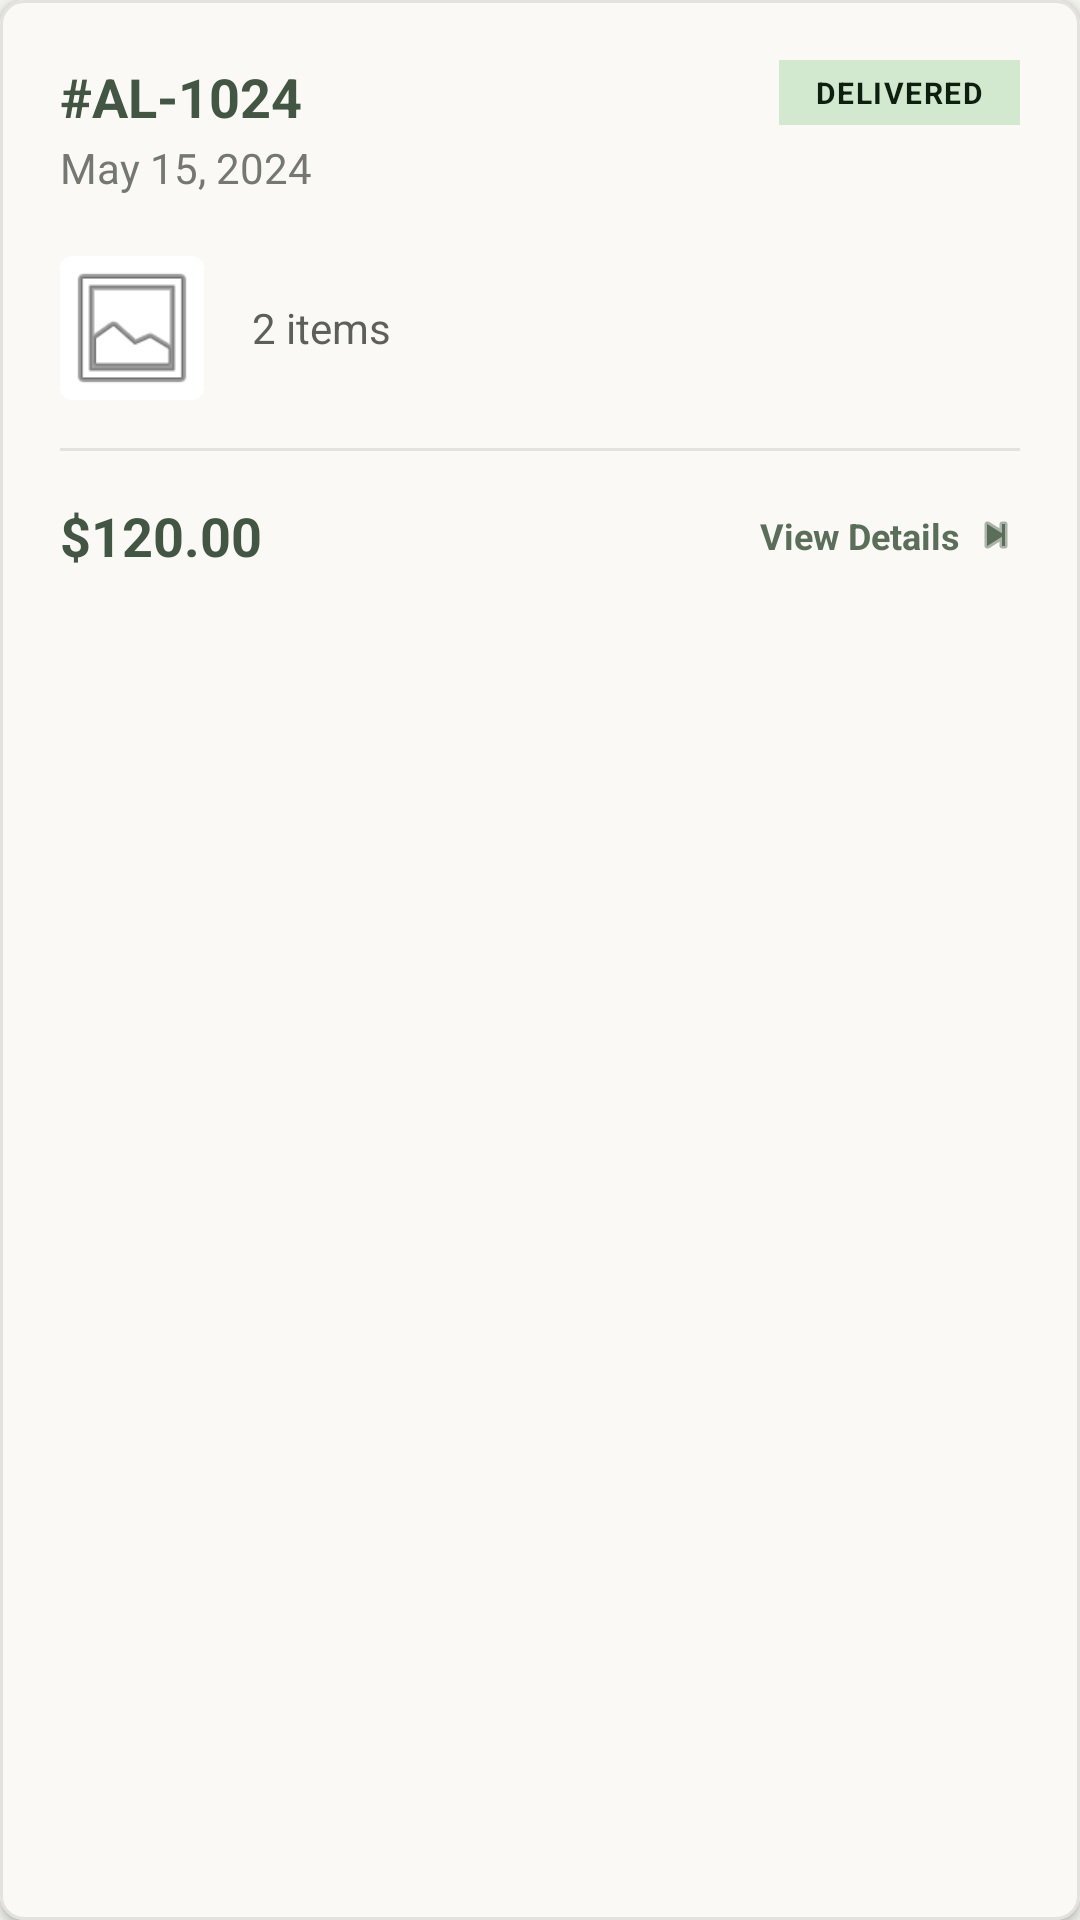

Locate icon controls on the screen. Image size 1080 x 1920, boxes as region(x1, y1, x2, y2).
gallery: region(60, 256, 204, 400)
next: region(984, 521, 1008, 549)
